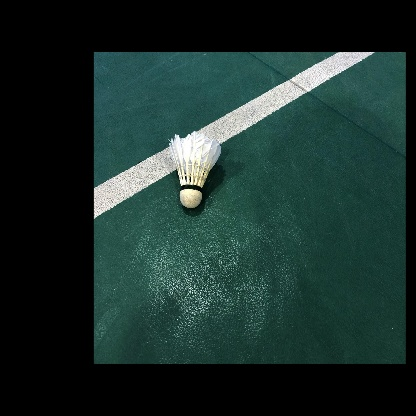ball_single: (169, 130, 221, 208)
